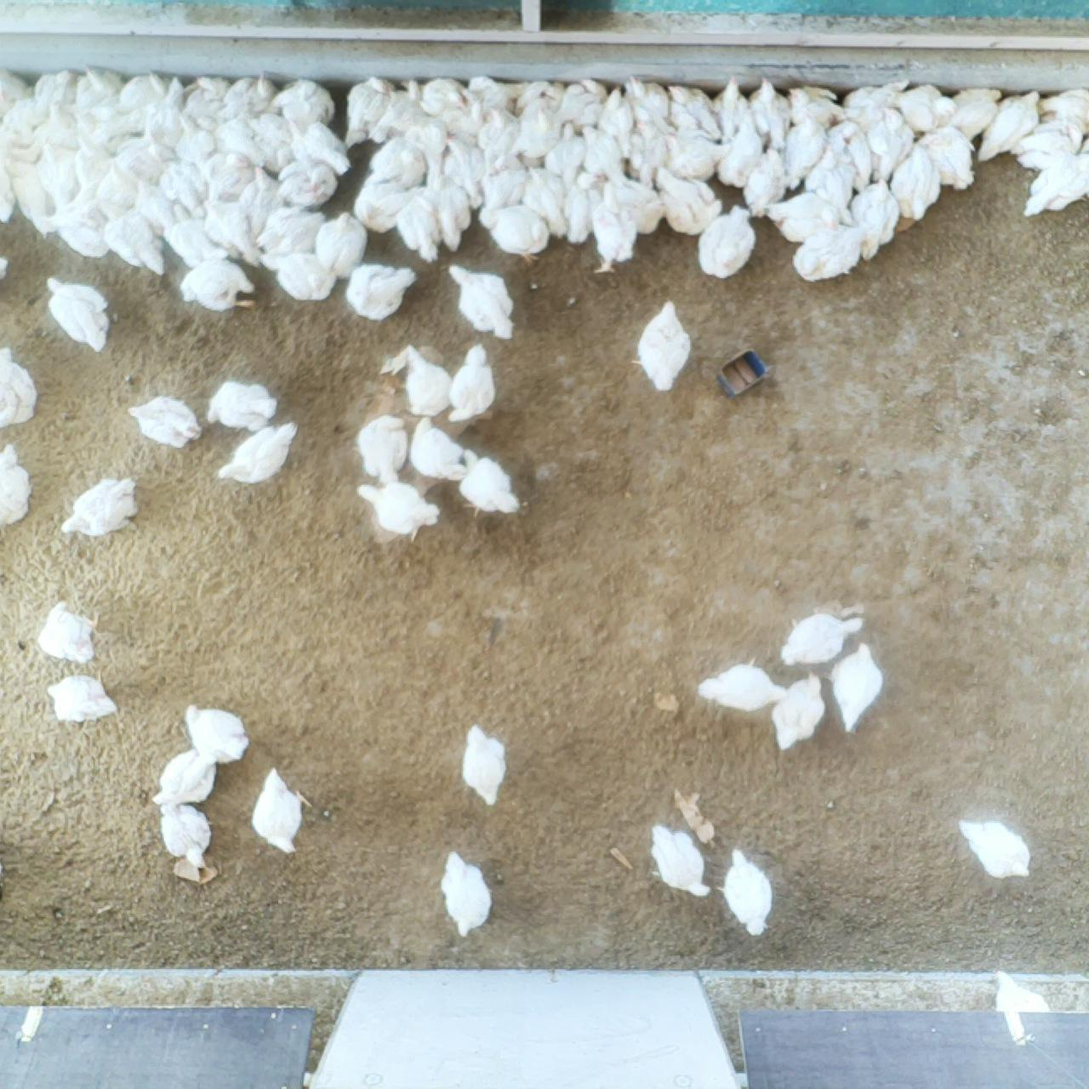chicken: (215, 418, 299, 487), (631, 299, 692, 394), (252, 765, 313, 856), (447, 262, 516, 342), (354, 478, 440, 542), (59, 472, 139, 538), (716, 847, 774, 937), (697, 655, 787, 713), (652, 165, 722, 238), (45, 277, 112, 352), (647, 821, 712, 898), (956, 817, 1034, 880), (830, 643, 884, 733), (100, 202, 166, 275), (974, 89, 1039, 163), (439, 852, 494, 938), (780, 613, 865, 668), (344, 261, 418, 324), (202, 194, 265, 268), (795, 222, 871, 283), (771, 668, 826, 752), (588, 182, 637, 276), (178, 259, 258, 316), (35, 596, 100, 665), (459, 447, 521, 519), (163, 201, 229, 268), (479, 201, 549, 264), (697, 205, 755, 280), (1022, 152, 1089, 216), (129, 392, 201, 450), (401, 341, 455, 418), (411, 415, 469, 486), (862, 102, 914, 181), (355, 413, 411, 486), (282, 116, 351, 175), (851, 177, 900, 260), (420, 172, 472, 250), (765, 191, 841, 244), (181, 703, 248, 763), (916, 123, 976, 190), (206, 377, 279, 432), (460, 722, 507, 807), (447, 341, 495, 424), (518, 164, 570, 239), (663, 78, 723, 143), (158, 799, 212, 871), (43, 673, 118, 724), (889, 79, 958, 134), (256, 204, 326, 258), (316, 209, 369, 280), (344, 77, 397, 148), (661, 126, 732, 179), (895, 142, 942, 222), (152, 749, 215, 808), (718, 111, 765, 190), (606, 170, 663, 235), (807, 140, 852, 222), (778, 119, 828, 192), (142, 74, 187, 155), (243, 105, 298, 170), (240, 167, 288, 241), (824, 118, 872, 190), (943, 84, 1002, 142), (0, 342, 37, 434), (1014, 120, 1082, 170), (395, 188, 442, 260), (354, 180, 419, 232), (840, 78, 906, 129), (437, 131, 483, 204), (32, 142, 82, 209), (593, 83, 636, 159), (277, 77, 334, 134), (277, 154, 337, 208), (743, 144, 787, 217), (578, 120, 627, 185), (154, 158, 207, 217), (748, 73, 790, 147), (706, 74, 749, 146), (625, 116, 669, 186), (273, 254, 338, 301), (0, 439, 32, 532), (375, 78, 423, 140), (479, 153, 527, 215), (544, 119, 589, 184), (119, 134, 171, 190), (204, 145, 251, 206), (1031, 86, 1089, 135), (223, 72, 279, 122), (368, 137, 427, 184), (11, 166, 51, 235), (211, 114, 263, 167), (438, 97, 488, 152), (623, 75, 671, 132), (51, 211, 110, 257), (555, 179, 596, 245), (406, 118, 449, 179), (784, 83, 842, 128), (560, 75, 607, 129), (33, 101, 81, 153), (94, 164, 139, 219), (474, 106, 520, 159), (466, 73, 514, 122), (79, 63, 124, 115), (173, 115, 217, 168), (423, 77, 471, 125), (513, 113, 561, 161), (185, 75, 230, 125), (73, 138, 111, 197), (76, 108, 121, 154), (513, 77, 561, 119), (36, 69, 78, 115), (116, 68, 166, 106), (0, 97, 36, 144), (118, 95, 154, 142), (0, 133, 37, 178), (0, 65, 24, 109), (0, 172, 15, 224), (0, 255, 12, 283)
